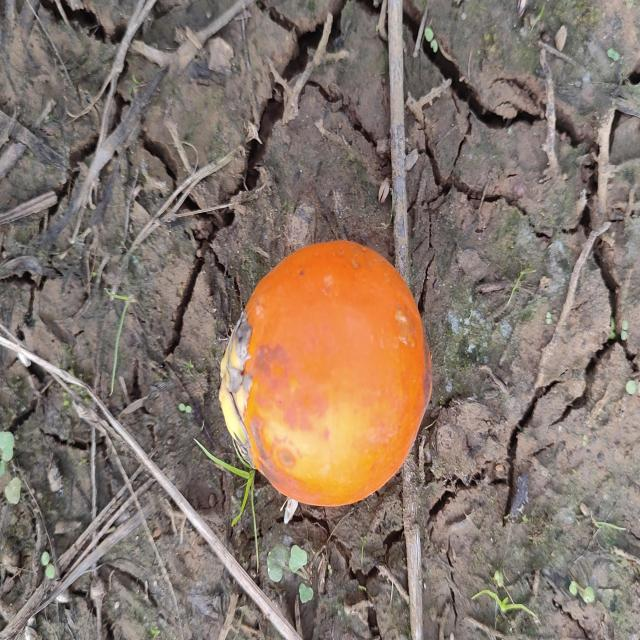good: (222, 241, 432, 509)
